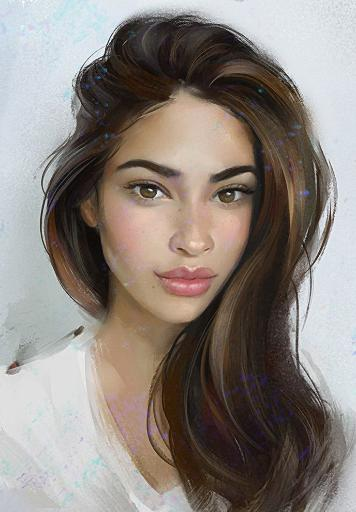left_eye: (212, 186, 253, 209)
left_lip_corner: (212, 270, 221, 286)
right_eye: (125, 183, 173, 207)
right_lip_corner: (152, 267, 165, 285)
